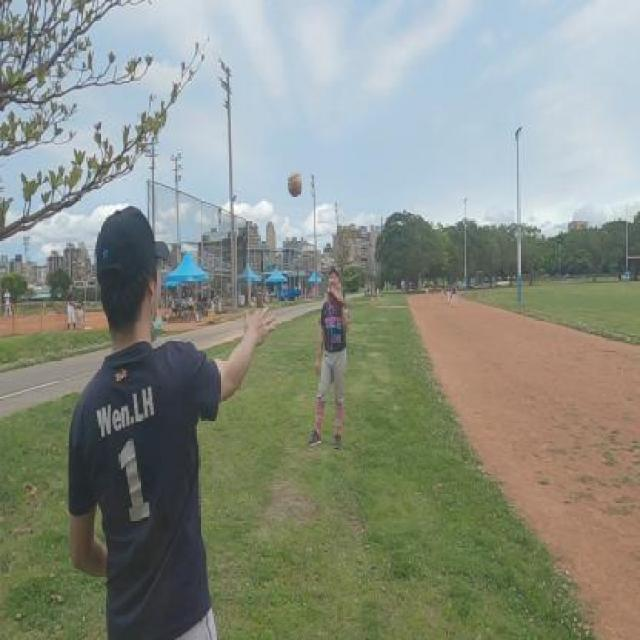ball: (286, 172, 306, 198)
